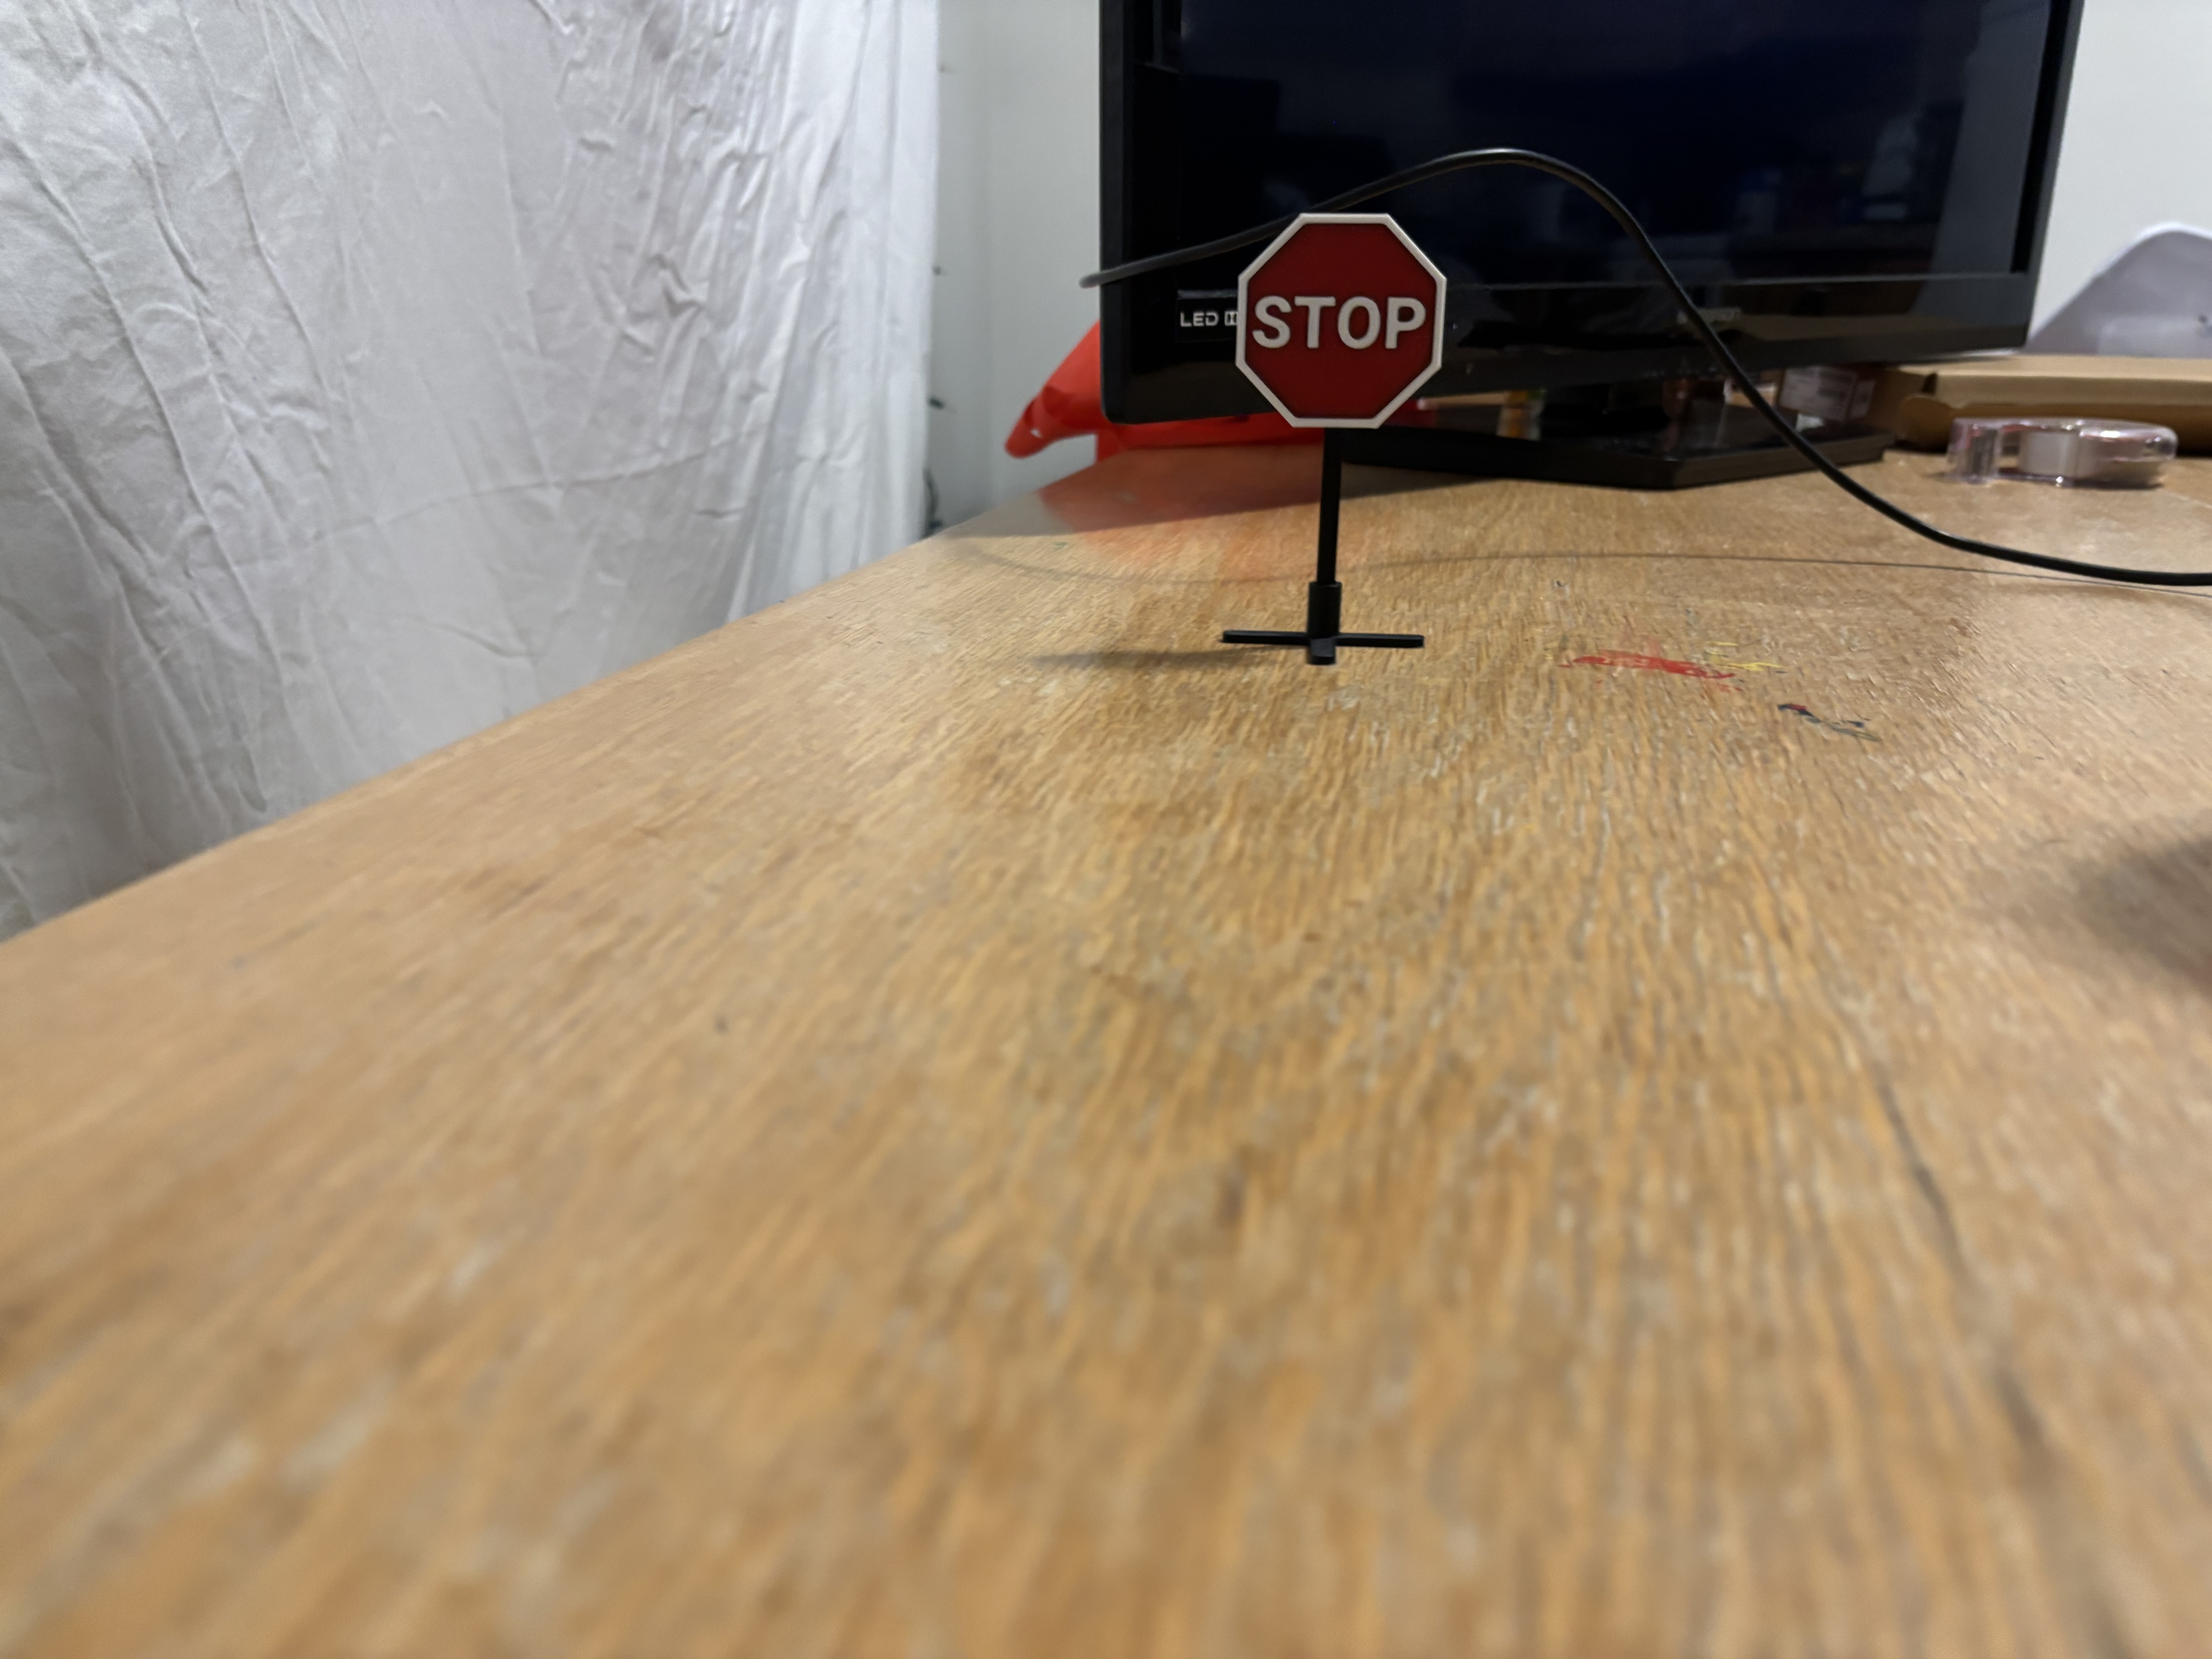sign_stop: (1217, 193, 1467, 443)
